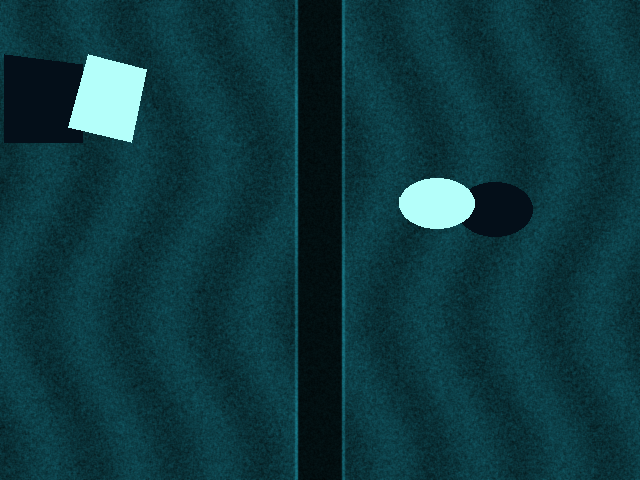Plastic Debris: (399, 178, 474, 228)
Unknown Anomaly: (68, 54, 146, 142)
